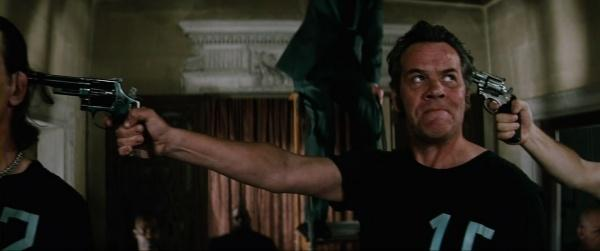Gun: (27, 69, 154, 154), (464, 64, 523, 146)
